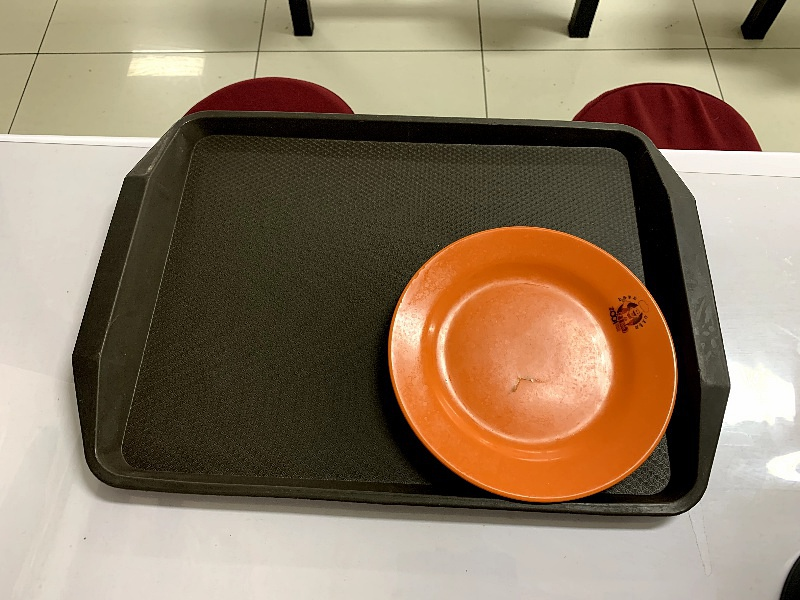dish10: (383, 222, 678, 505)
